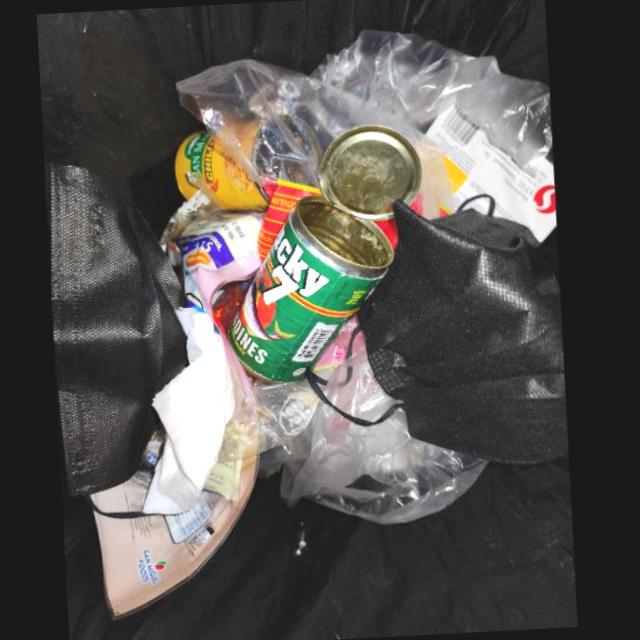bao_bi_thuc_pham: (89, 430, 258, 620), (161, 179, 321, 314)
giay: (141, 306, 235, 514)
khau_trang: (303, 198, 569, 464)
nhom: (226, 123, 423, 382), (174, 130, 269, 212)
tui_ni_long: (174, 33, 556, 213), (217, 378, 489, 524), (316, 357, 403, 421)
